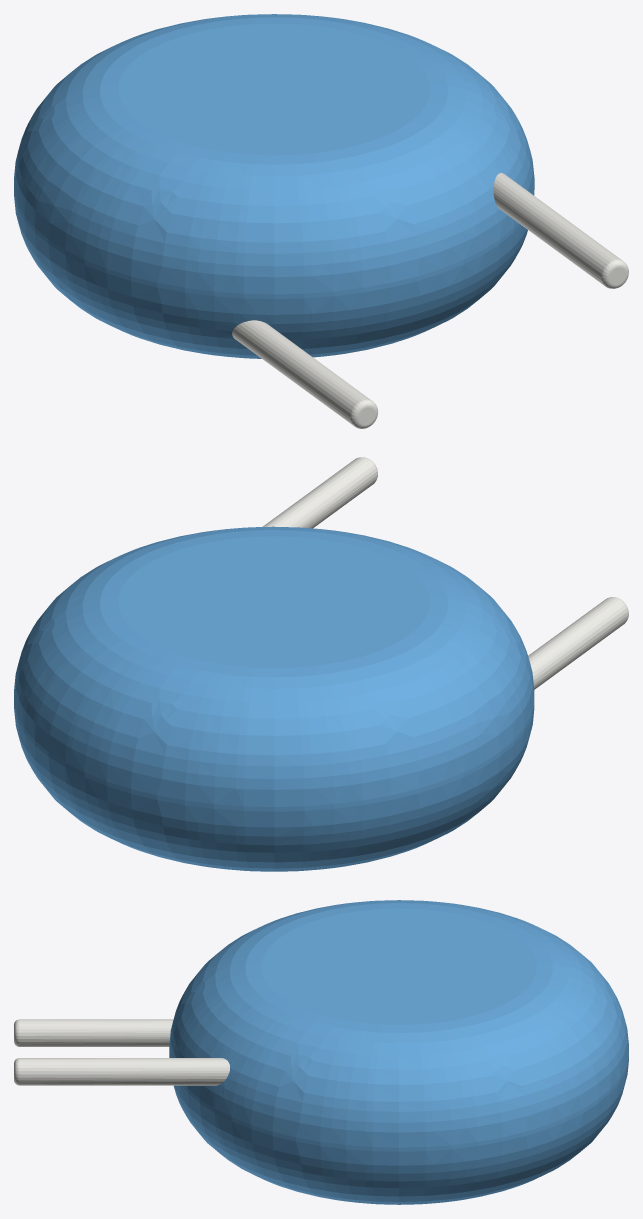
File: RV_Disc_D9mm_W3.7mm_P5mm.glb
The picture shows the model from 3 angles, top to bottom: view 1: azimuth 30°, elevation 25°; view 2: azimuth 150°, elevation 25°; view 3: azimuth 270°, elevation 25°; orthographic projection. The views are drawn at different scales.
Parts seen in each view (by area): view 1: Shape_IndexedFaceSet.001, Shape_IndexedFaceSet.003, Shape_IndexedFaceSet.002, Shape_IndexedFaceSet.006, Shape_IndexedFaceSet.004, Shape_IndexedFaceSet; view 2: Shape_IndexedFaceSet.001, Shape_IndexedFaceSet.003, Shape_IndexedFaceSet.002, Shape_IndexedFaceSet.006, Shape_IndexedFaceSet.004, Shape_IndexedFaceSet; view 3: Shape_IndexedFaceSet.001, Shape_IndexedFaceSet.003, Shape_IndexedFaceSet.002, Shape_IndexedFaceSet.004, Shape_IndexedFaceSet.006, Shape_IndexedFaceSet.
Boxes of the visible parts, x1,y1,x2,y2 form: Shape_IndexedFaceSet.001: (14,14,534,294); Shape_IndexedFaceSet.003: (118,23,429,155); Shape_IndexedFaceSet.002: (14,196,527,358); Shape_IndexedFaceSet.006: (232,320,370,424); Shape_IndexedFaceSet.004: (493,173,622,284); Shape_IndexedFaceSet: (14,185,534,299); Shape_IndexedFaceSet.001: (14,526,534,806); Shape_IndexedFaceSet.003: (118,536,429,667); Shape_IndexedFaceSet.002: (14,709,534,871); Shape_IndexedFaceSet.006: (528,597,627,689); Shape_IndexedFaceSet.004: (262,457,377,528); Shape_IndexedFaceSet: (14,704,534,811); Shape_IndexedFaceSet.001: (169,900,628,1147); Shape_IndexedFaceSet.003: (261,908,536,1024); Shape_IndexedFaceSet.002: (173,1061,628,1204); Shape_IndexedFaceSet.004: (19,1058,229,1085); Shape_IndexedFaceSet.006: (19,1019,173,1046); Shape_IndexedFaceSet: (169,1056,628,1151).
Bounding box in the file's own units: 3.54 × 1.46 × 4.73.
